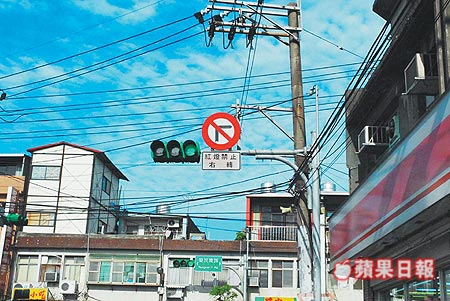No_right_turn: (201, 112, 240, 151)
